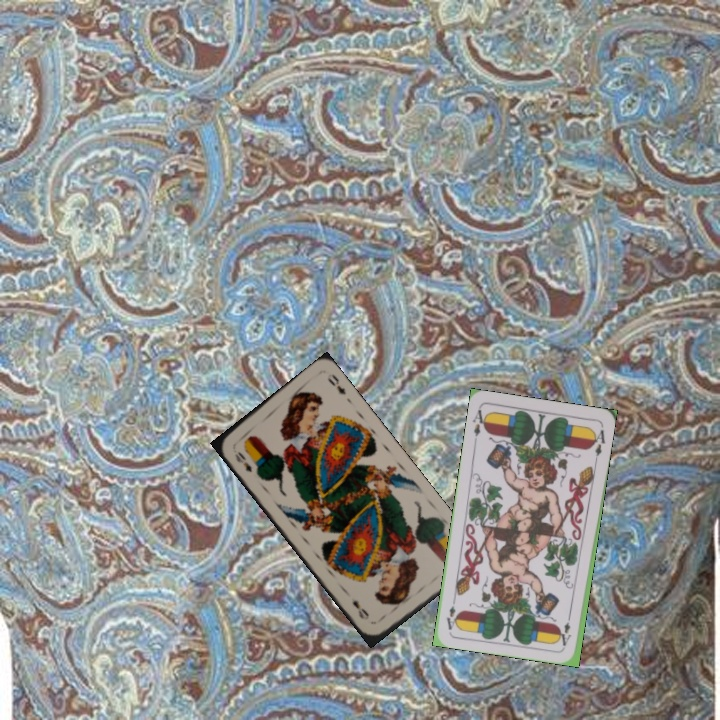EA: (469, 405, 490, 445), (558, 609, 574, 648)
EO: (230, 447, 255, 475)
